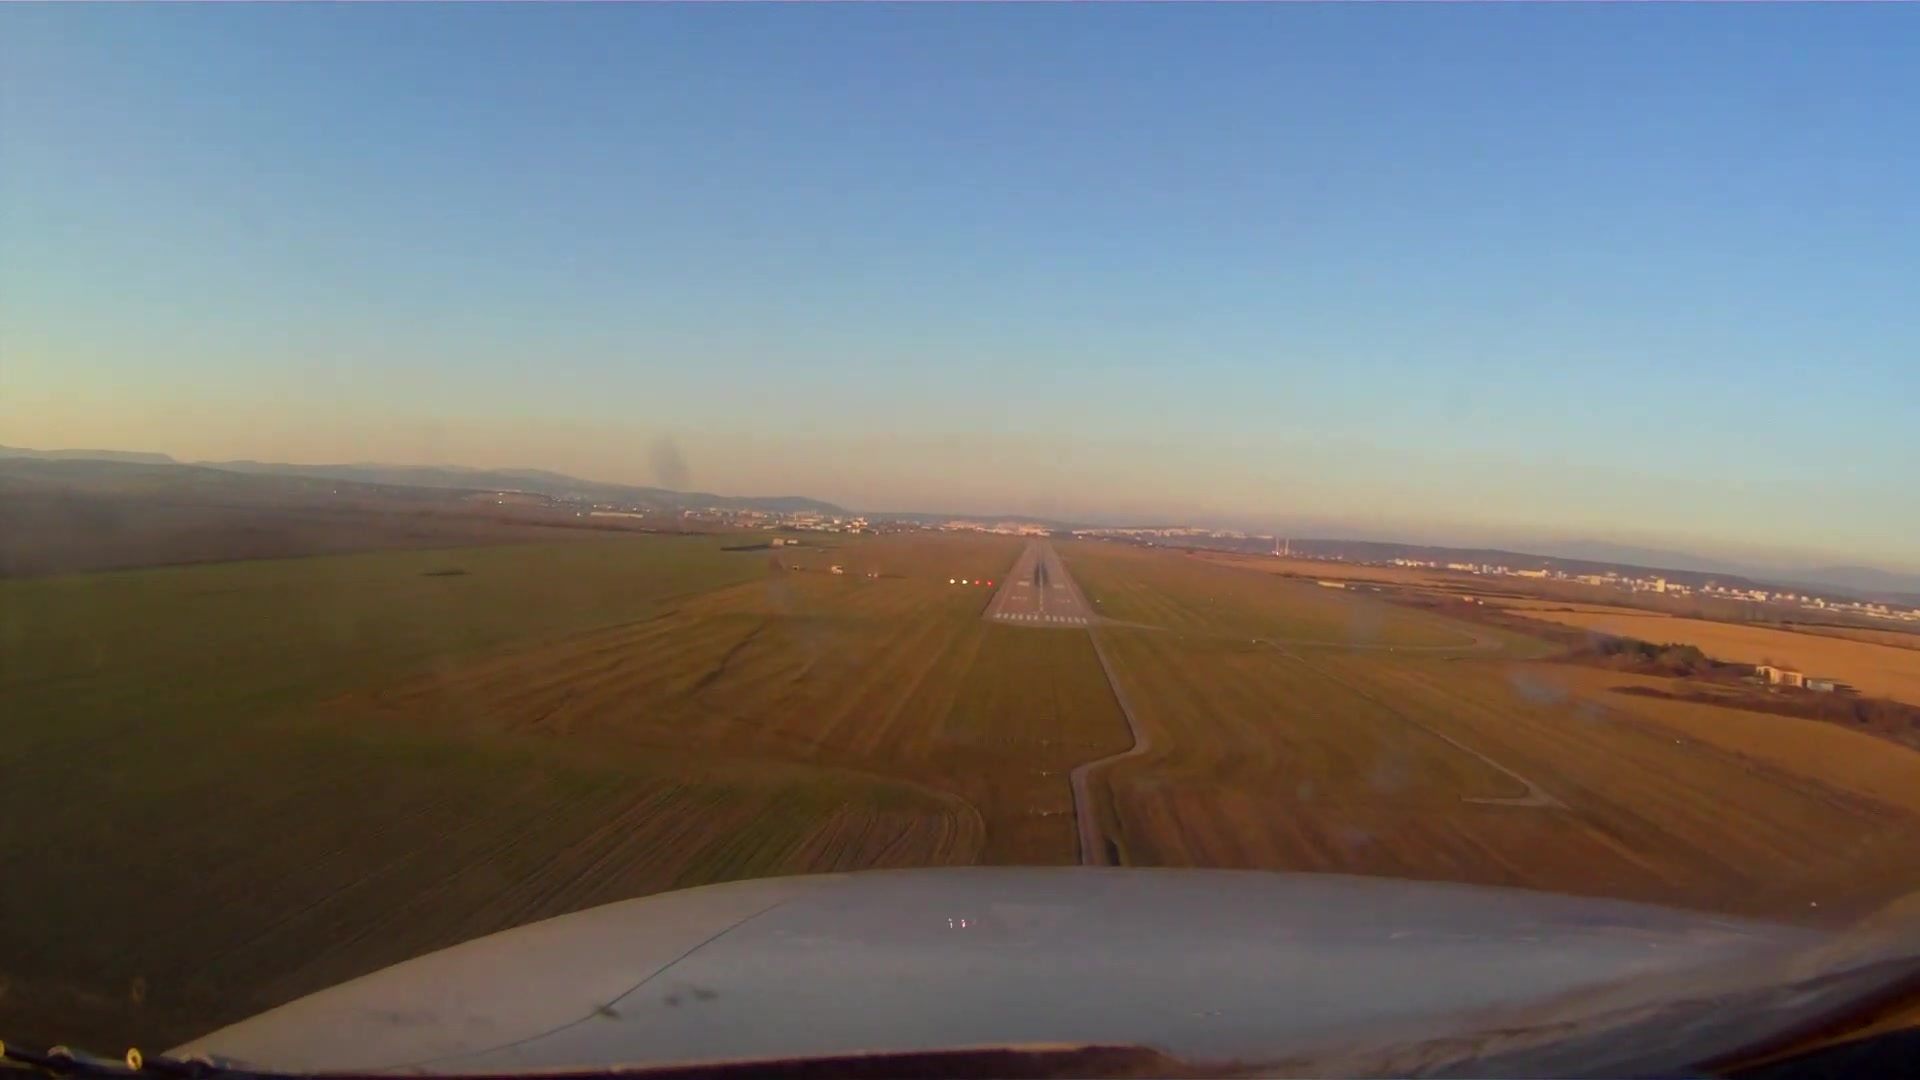entrance: (992, 611, 1091, 628)
runway: (978, 543, 1101, 632)
